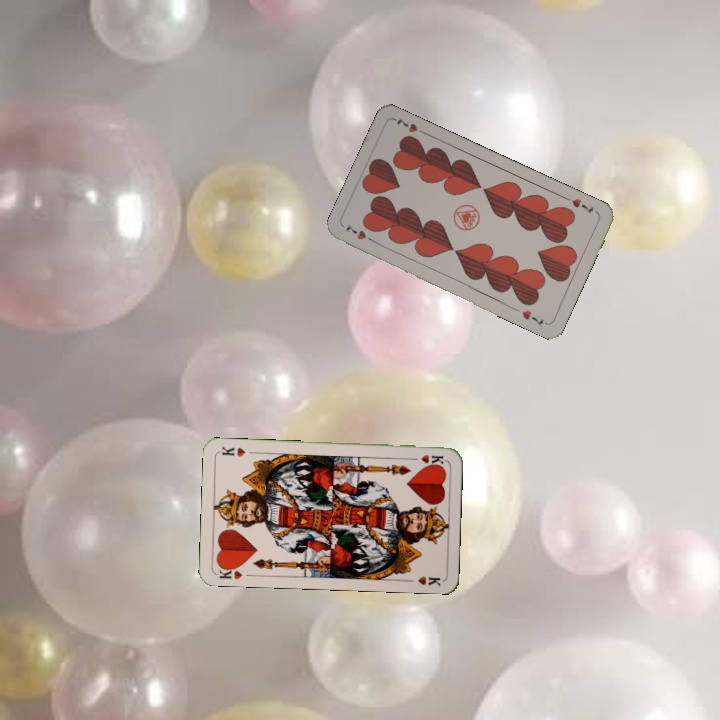H7: (341, 221, 378, 246), (561, 193, 596, 216)
HK: (406, 451, 446, 468), (213, 562, 245, 582)
